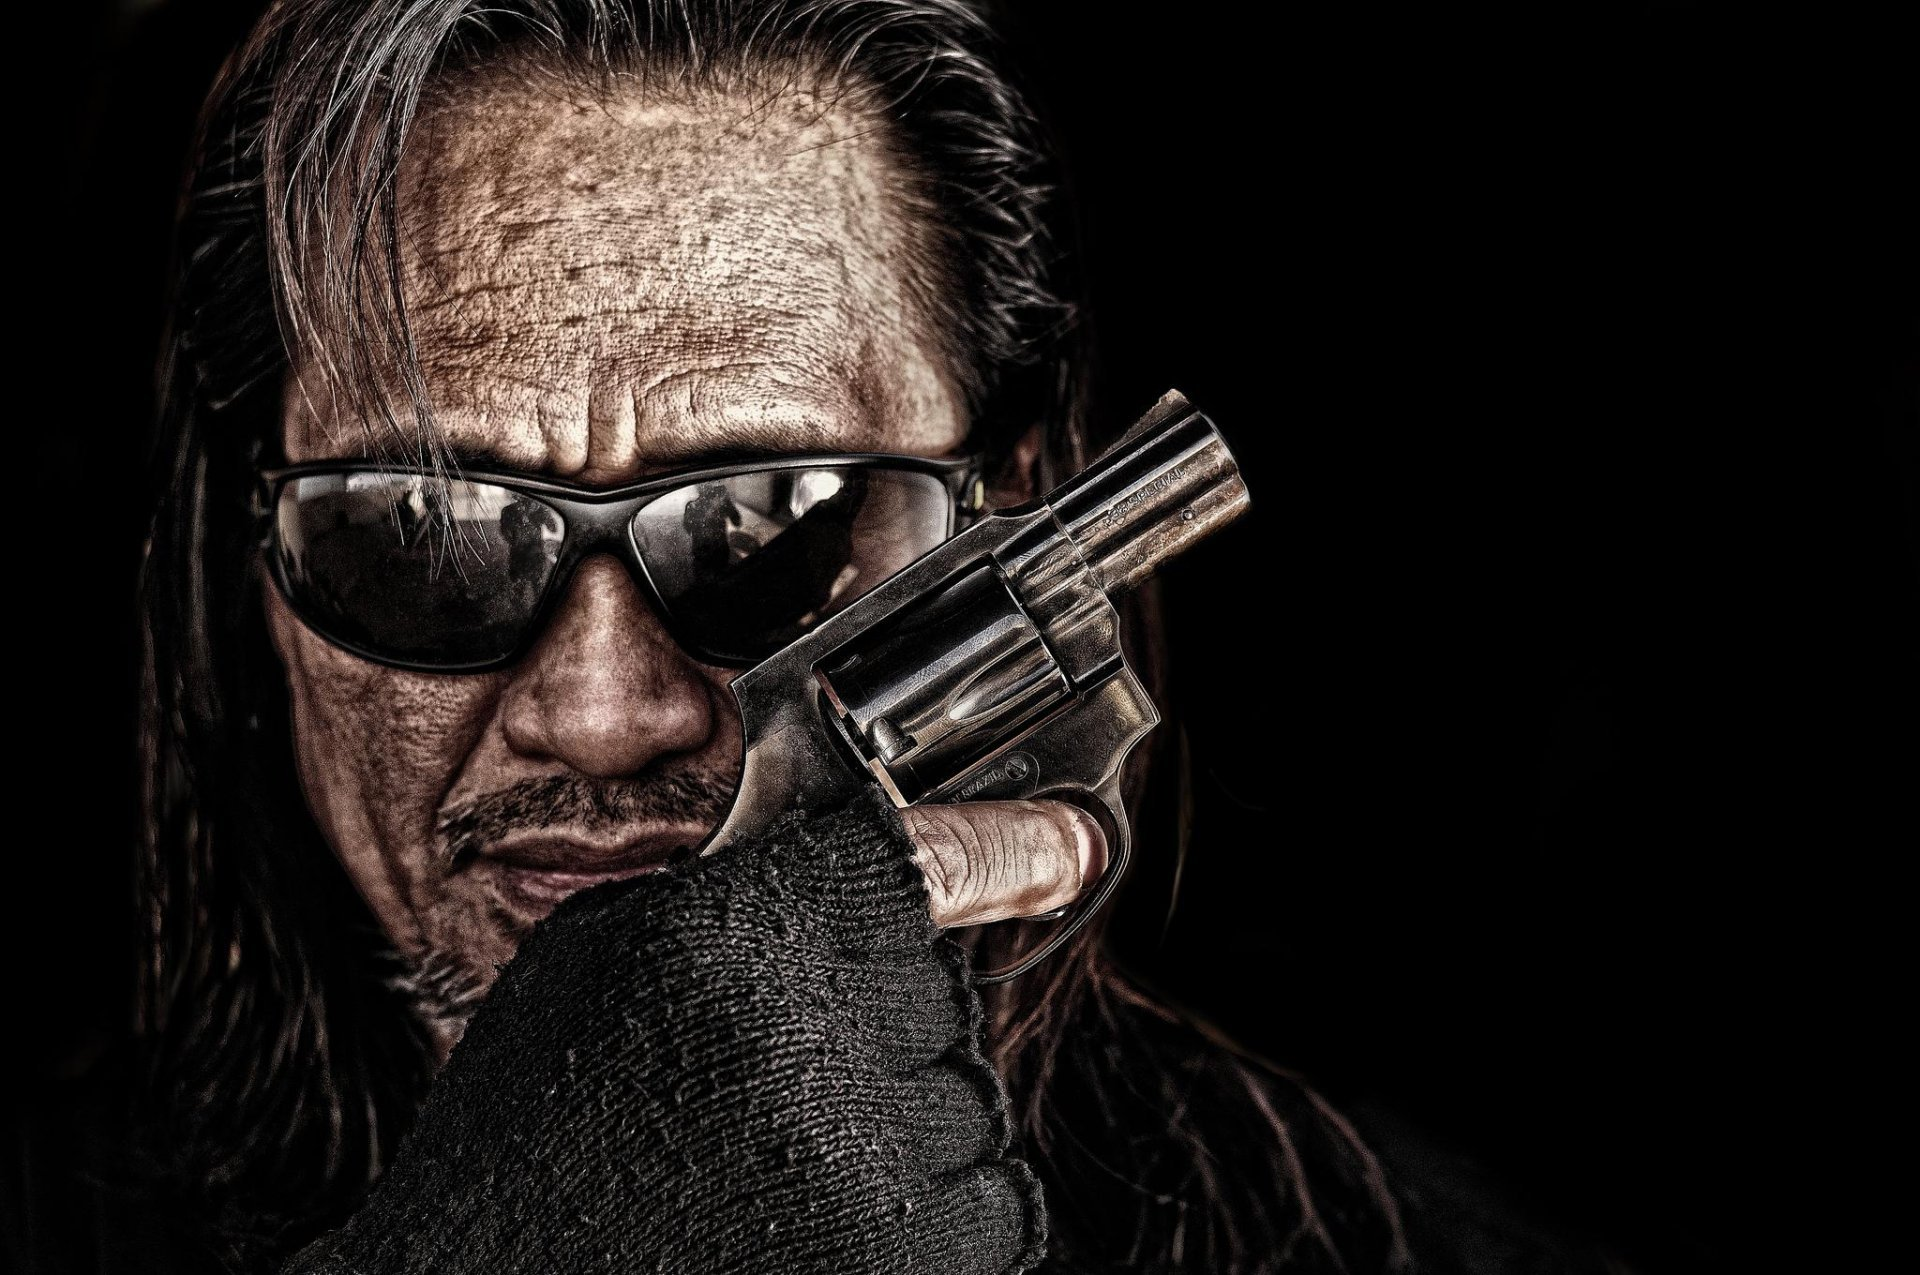Revolver: (612, 364, 1563, 1007), (704, 364, 1563, 1007), (612, 538, 1563, 1007), (704, 364, 1276, 1007)
